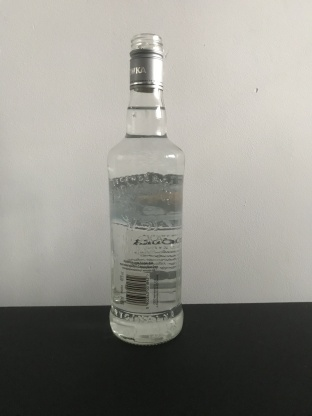nakretka: (128, 31, 164, 93)
